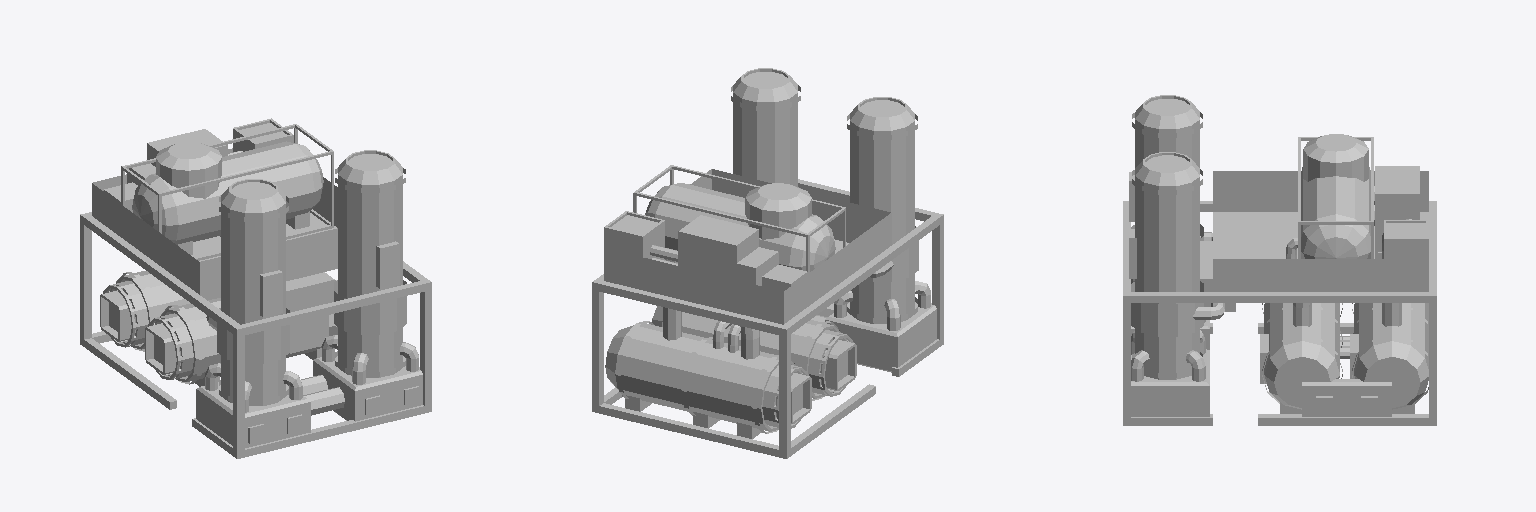
Rendered from cryo_distill.obj.
3 renders of one model, left to right at view 1: azimuth 30°, elevation 25°; view 2: azimuth 150°, elevation 25°; view 3: azimuth 270°, elevation 25°, orthographic.
Parts seen in each view (by area): view 1: cryo_distill; view 2: cryo_distill; view 3: cryo_distill.
Part boxes in pixels (x1,y1,x2,y2): cryo_distill: (80, 118, 431, 458); cryo_distill: (592, 68, 943, 458); cryo_distill: (1123, 95, 1436, 425).
Size of the model in its own units: 5 by 6 by 7.